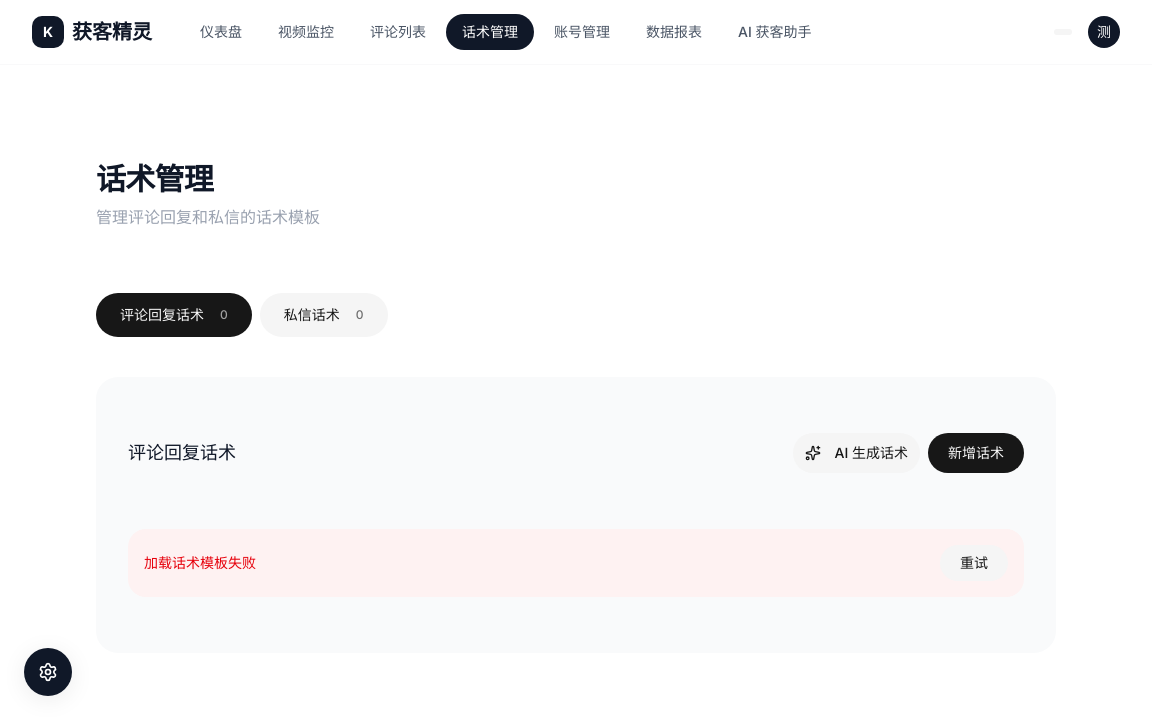
Test case: templates/page.tsx 数据加载失败态 › 点击「重试」重新拉取，成功后渲染空态
This screenshot has width=1152, height=720.
Click the button "重试" at (974, 563), box [940,545,1008,581]
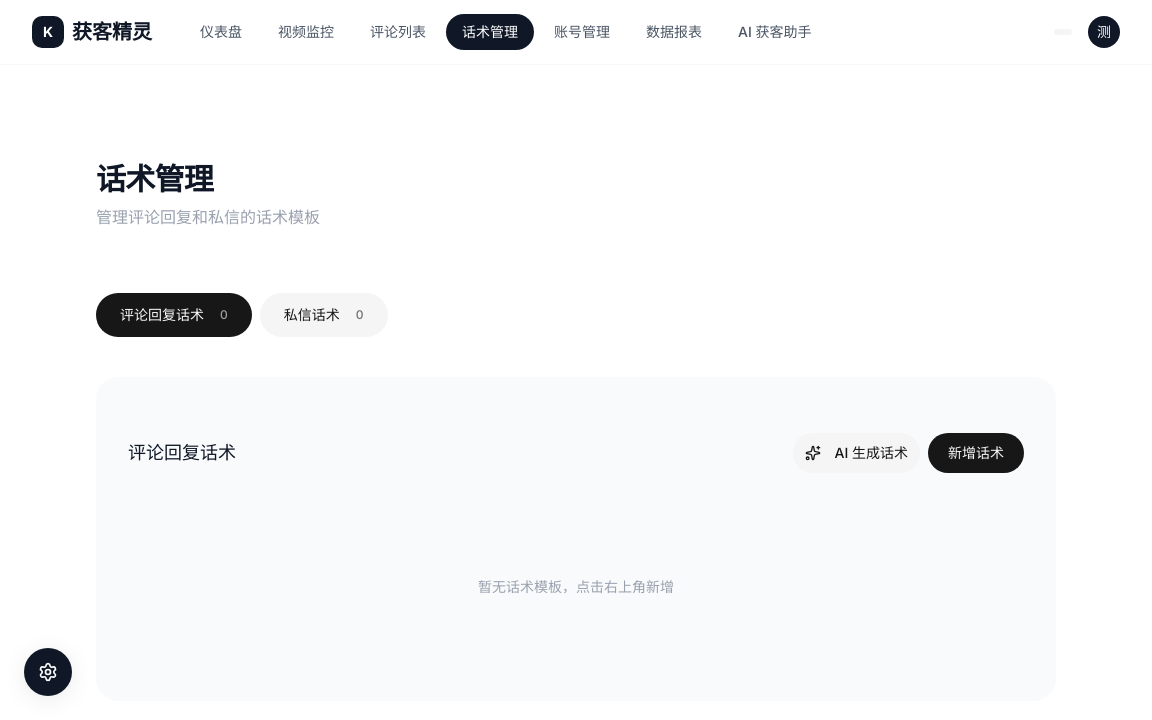
Result: the text "加载话术模板失败" is gone
Result: the text "暂无话术模板" is shown at [478,578,674,595]
